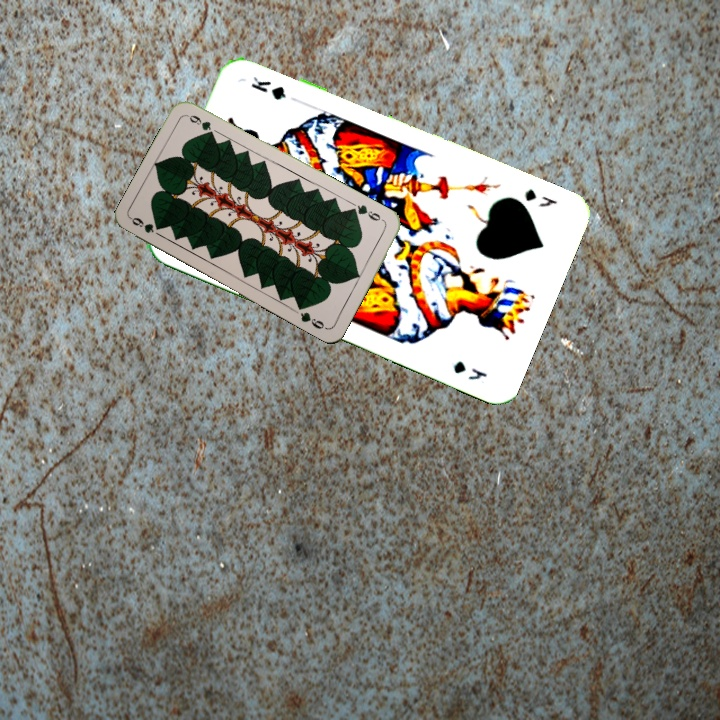G9: (348, 200, 388, 225), (127, 213, 157, 236)
GK: (520, 184, 560, 210)
